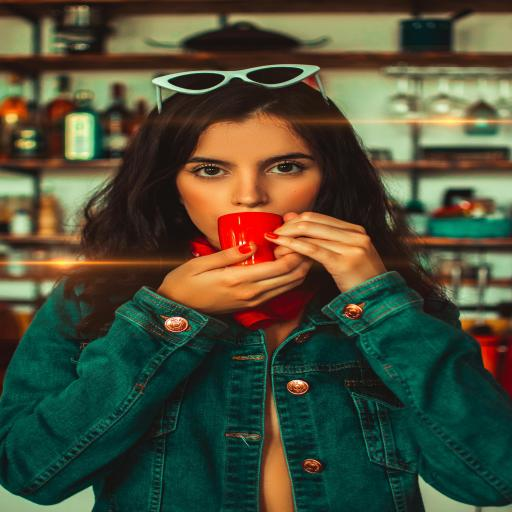cup: (219, 212, 285, 265)
